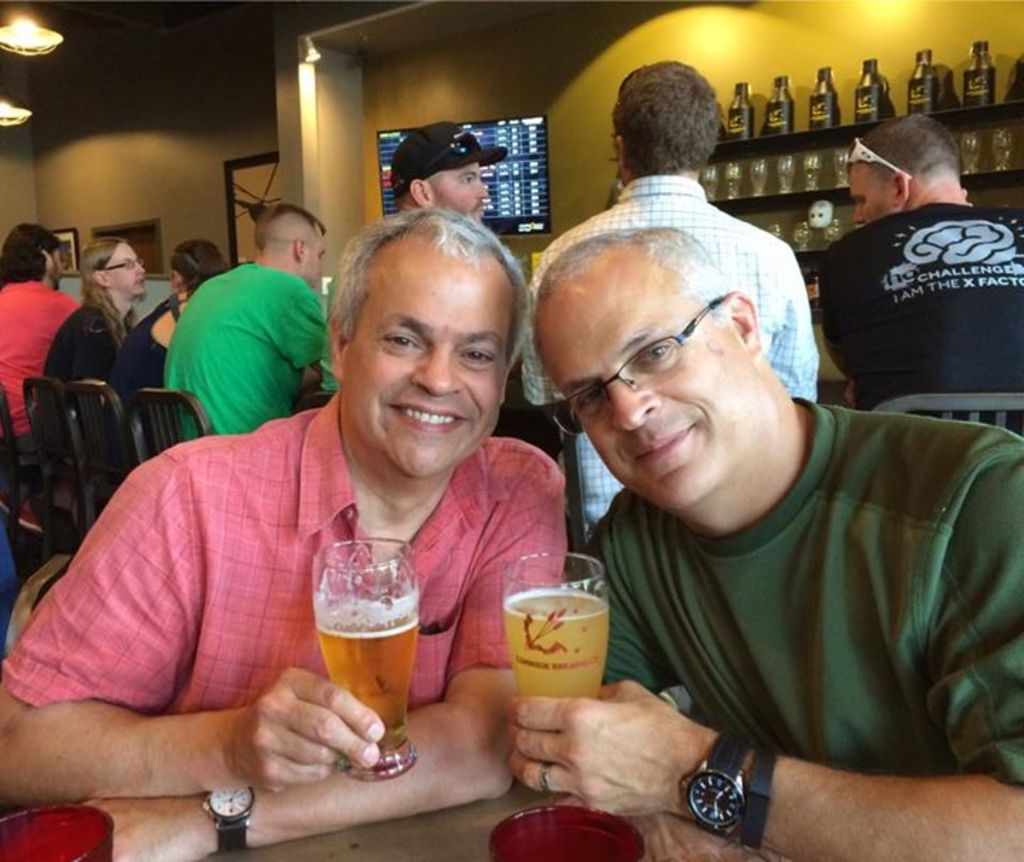Beer: (314, 607, 416, 770), (502, 587, 610, 694)
